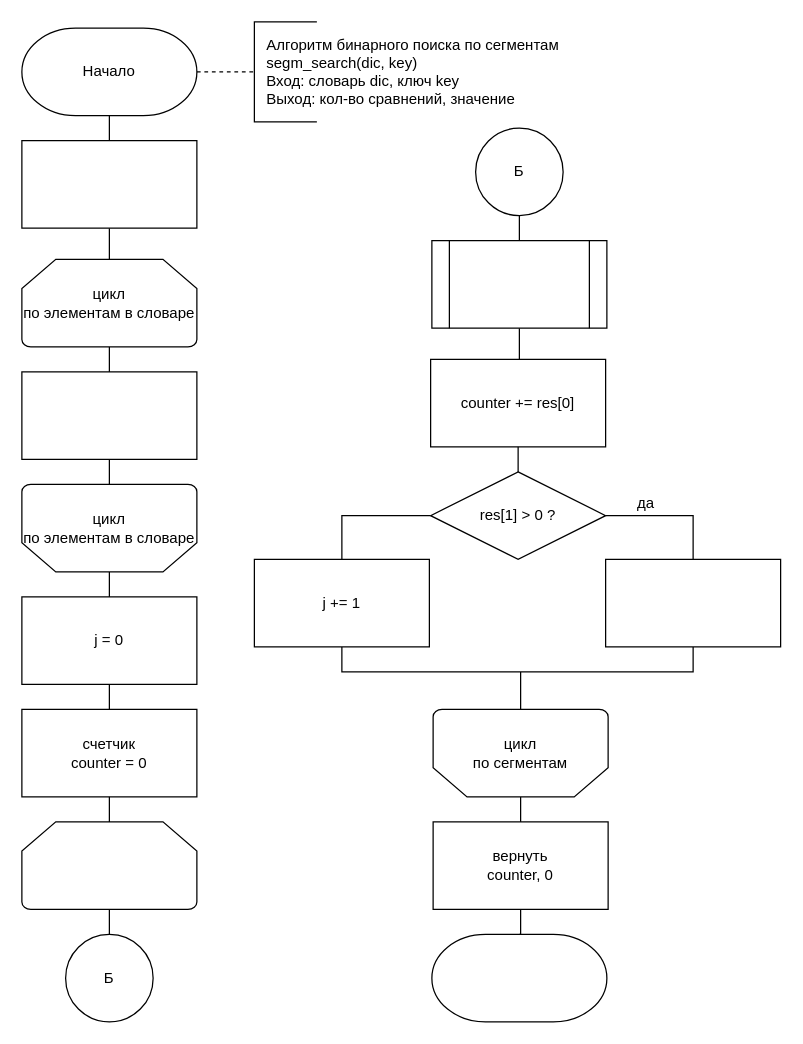
The diagram is 803 pixels wide and 1044 high, and some of its shapes have lost their labels. Here are the shapes that lost their labels. From the top down, the centre of each, then its label:
(109,183): массив сегментов segms
(519,283): res = binary_search (segms[j], key)
(109,415): добавление очередного элемента в нужный сегмент
(692,602): вернуть counter, res[1]
(109,865): цикл по сегментам while j < 13
(519,977): Конец
